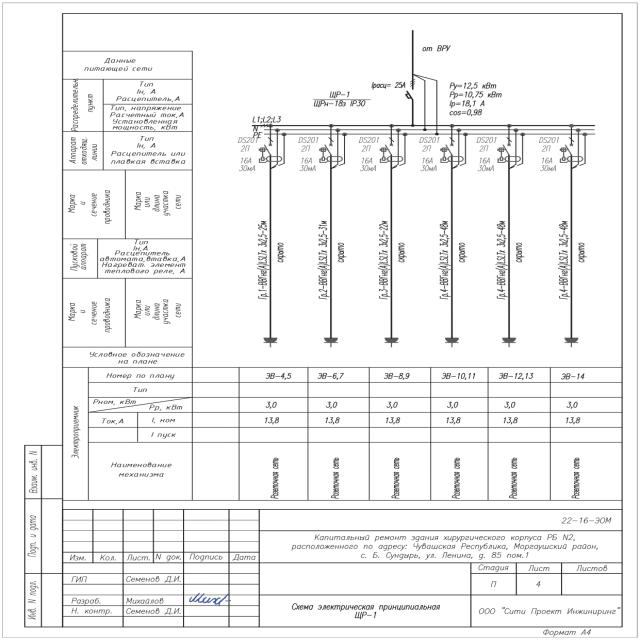-: (310, 90, 371, 108), (296, 136, 320, 173), (474, 136, 498, 173), (537, 136, 560, 174), (418, 136, 441, 173), (235, 136, 258, 172), (357, 136, 380, 172), (369, 80, 407, 92)
QF: (406, 77, 418, 101)
QFD: (379, 136, 404, 164), (560, 136, 584, 164), (497, 136, 521, 164), (318, 137, 342, 165), (440, 136, 464, 164), (259, 136, 283, 164)
